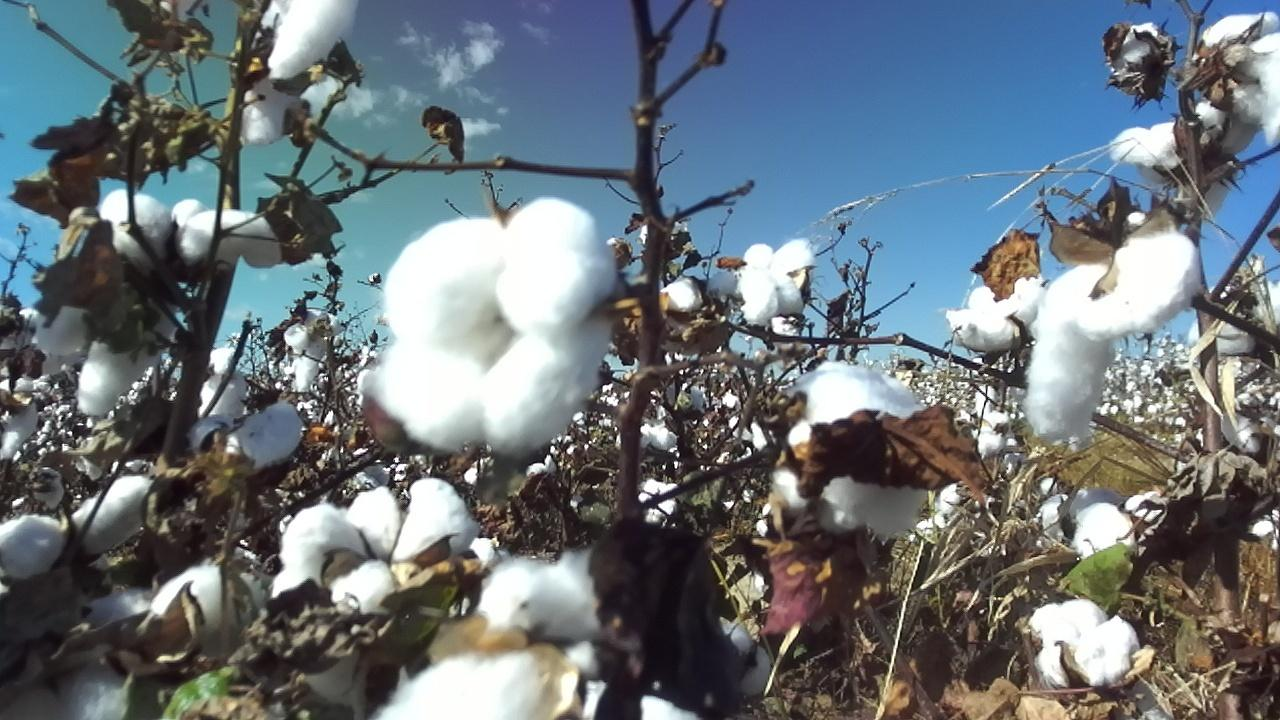cotton_ready: (383, 195, 617, 451), (1026, 210, 1205, 446), (372, 550, 602, 720), (33, 187, 172, 414), (272, 477, 474, 618), (777, 360, 933, 538), (0, 470, 160, 582), (245, 0, 359, 147), (89, 564, 267, 655), (1194, 10, 1280, 150), (1109, 122, 1232, 219), (1028, 597, 1140, 687), (201, 373, 305, 469), (1037, 490, 1172, 557), (171, 198, 295, 267), (945, 278, 1038, 357), (1185, 283, 1280, 355), (740, 239, 816, 318), (710, 619, 777, 702), (579, 680, 705, 720), (285, 307, 345, 387), (1110, 20, 1169, 92), (0, 321, 52, 395), (1220, 389, 1280, 452), (662, 270, 739, 313), (919, 487, 965, 540), (974, 410, 1012, 455)
